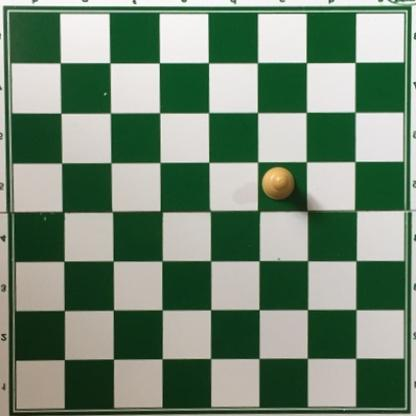white-pawn: (261, 165, 296, 204)
